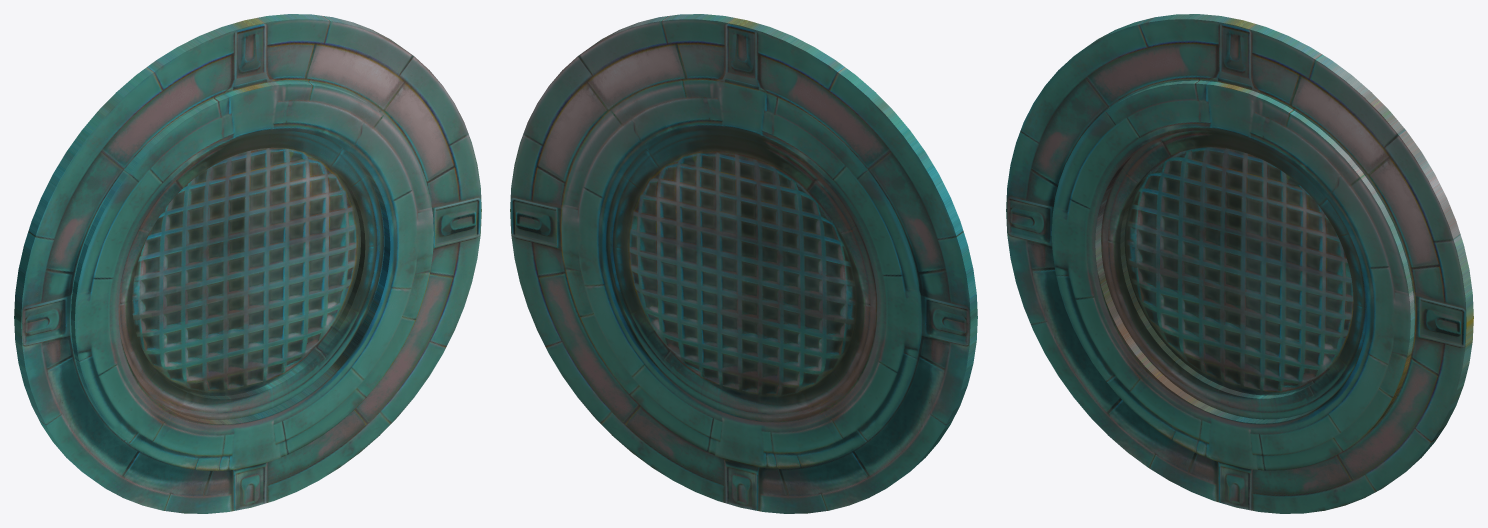
3 renders of one model, left to right at view 1: azimuth 30°, elevation 25°; view 2: azimuth 150°, elevation 25°; view 3: azimuth 330°, elevation 25°, orthographic.
Visible parts, largest first — view 1: metal vent 001_Diffuse.001_0; view 2: metal vent 001_Diffuse.001_0; view 3: metal vent 001_Diffuse.001_0.
Boxes of the visible parts, left/top/right/bottom form: metal vent 001_Diffuse.001_0: left=14, top=14, right=481, bottom=513; metal vent 001_Diffuse.001_0: left=510, top=14, right=977, bottom=513; metal vent 001_Diffuse.001_0: left=1006, top=14, right=1473, bottom=513.
Size of the model in its own units: 0.9821 by 0.9821 by 0.041.
1 material, 1 textured.
